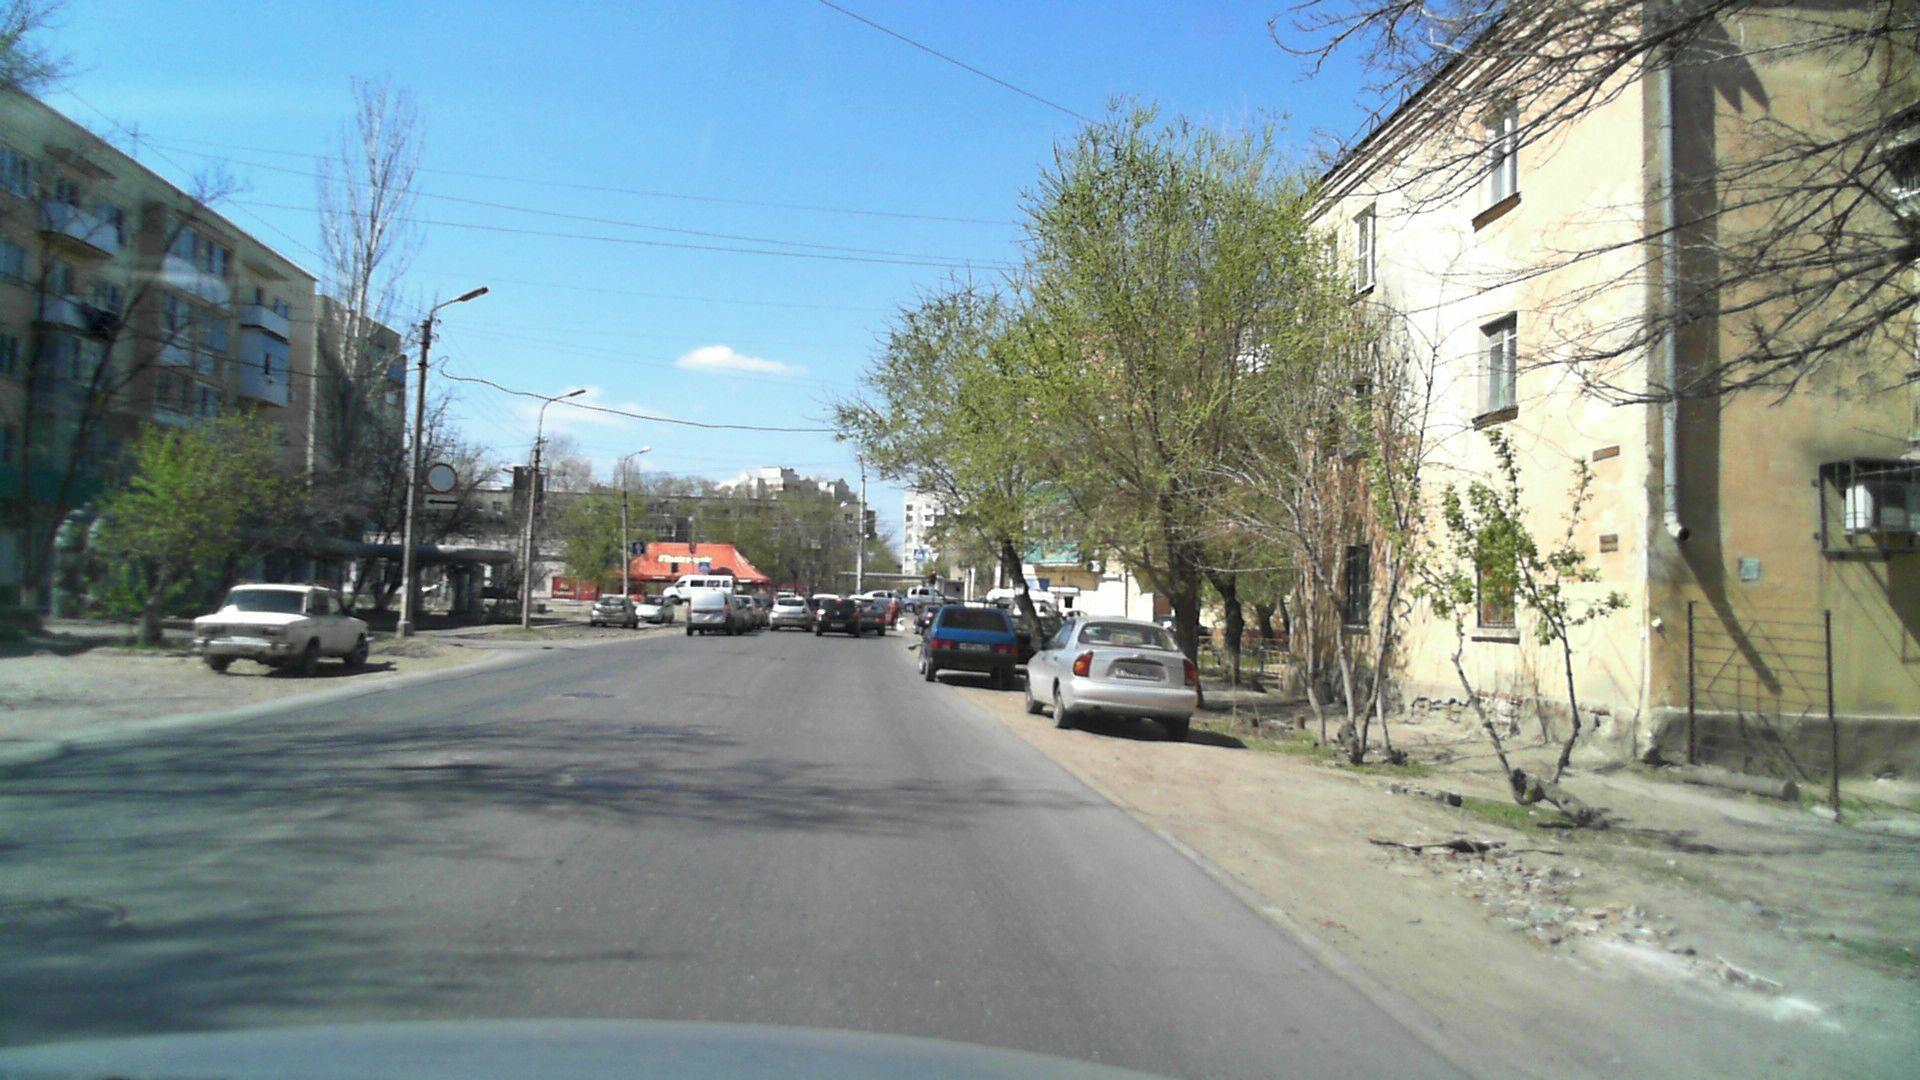2_2: (928, 534, 940, 547)
2_4: (928, 551, 940, 564)
3_2: (426, 460, 460, 492)
5_19_1: (914, 547, 926, 562)
5_19_2: (699, 560, 711, 574)
5_6: (630, 541, 644, 554)
8_3_2: (425, 493, 459, 510)
